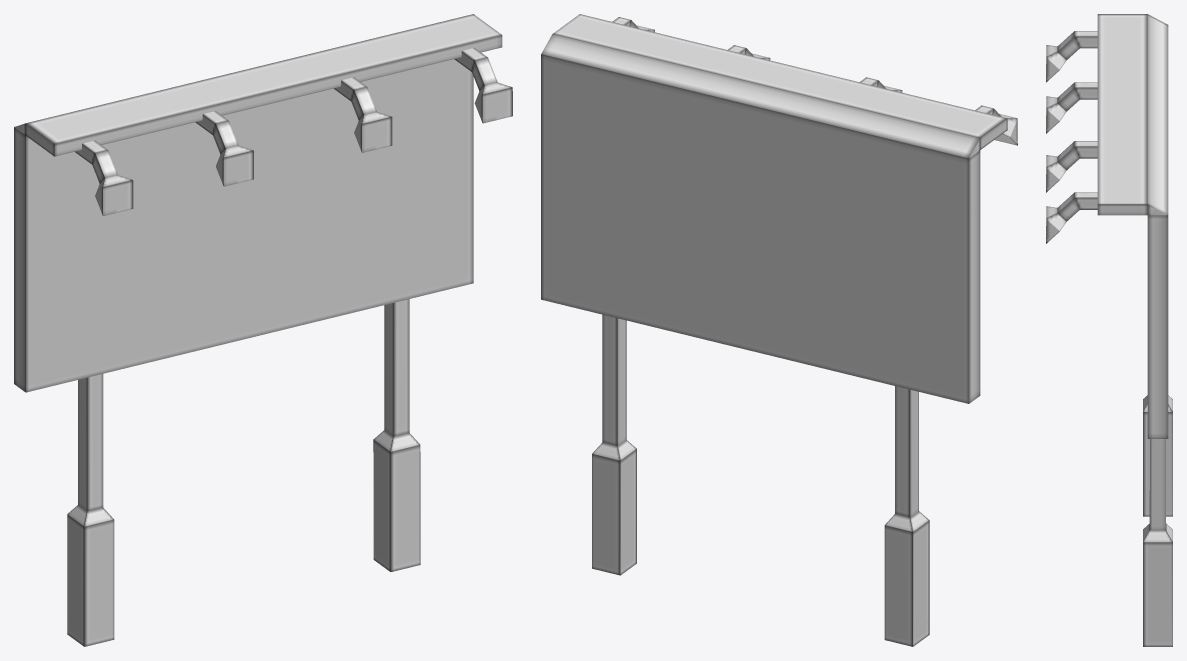
Rendered from Billboard-02.fbx.
The picture shows the model from 3 angles, left to right: view 1: azimuth 30°, elevation 25°; view 2: azimuth 150°, elevation 25°; view 3: azimuth 270°, elevation 25°; orthographic projection. The views are drawn at different scales.
Parts seen in each view (by area): view 1: Billboard_02; view 2: Billboard_02; view 3: Billboard_02.
Part boxes in pixels (x1,y1,x2,y2): Billboard_02: (14,14,512,646); Billboard_02: (541,14,1017,646); Billboard_02: (1046,14,1172,646).
Bounding box in the file's own units: 2 × 2.28 × 0.5628.
